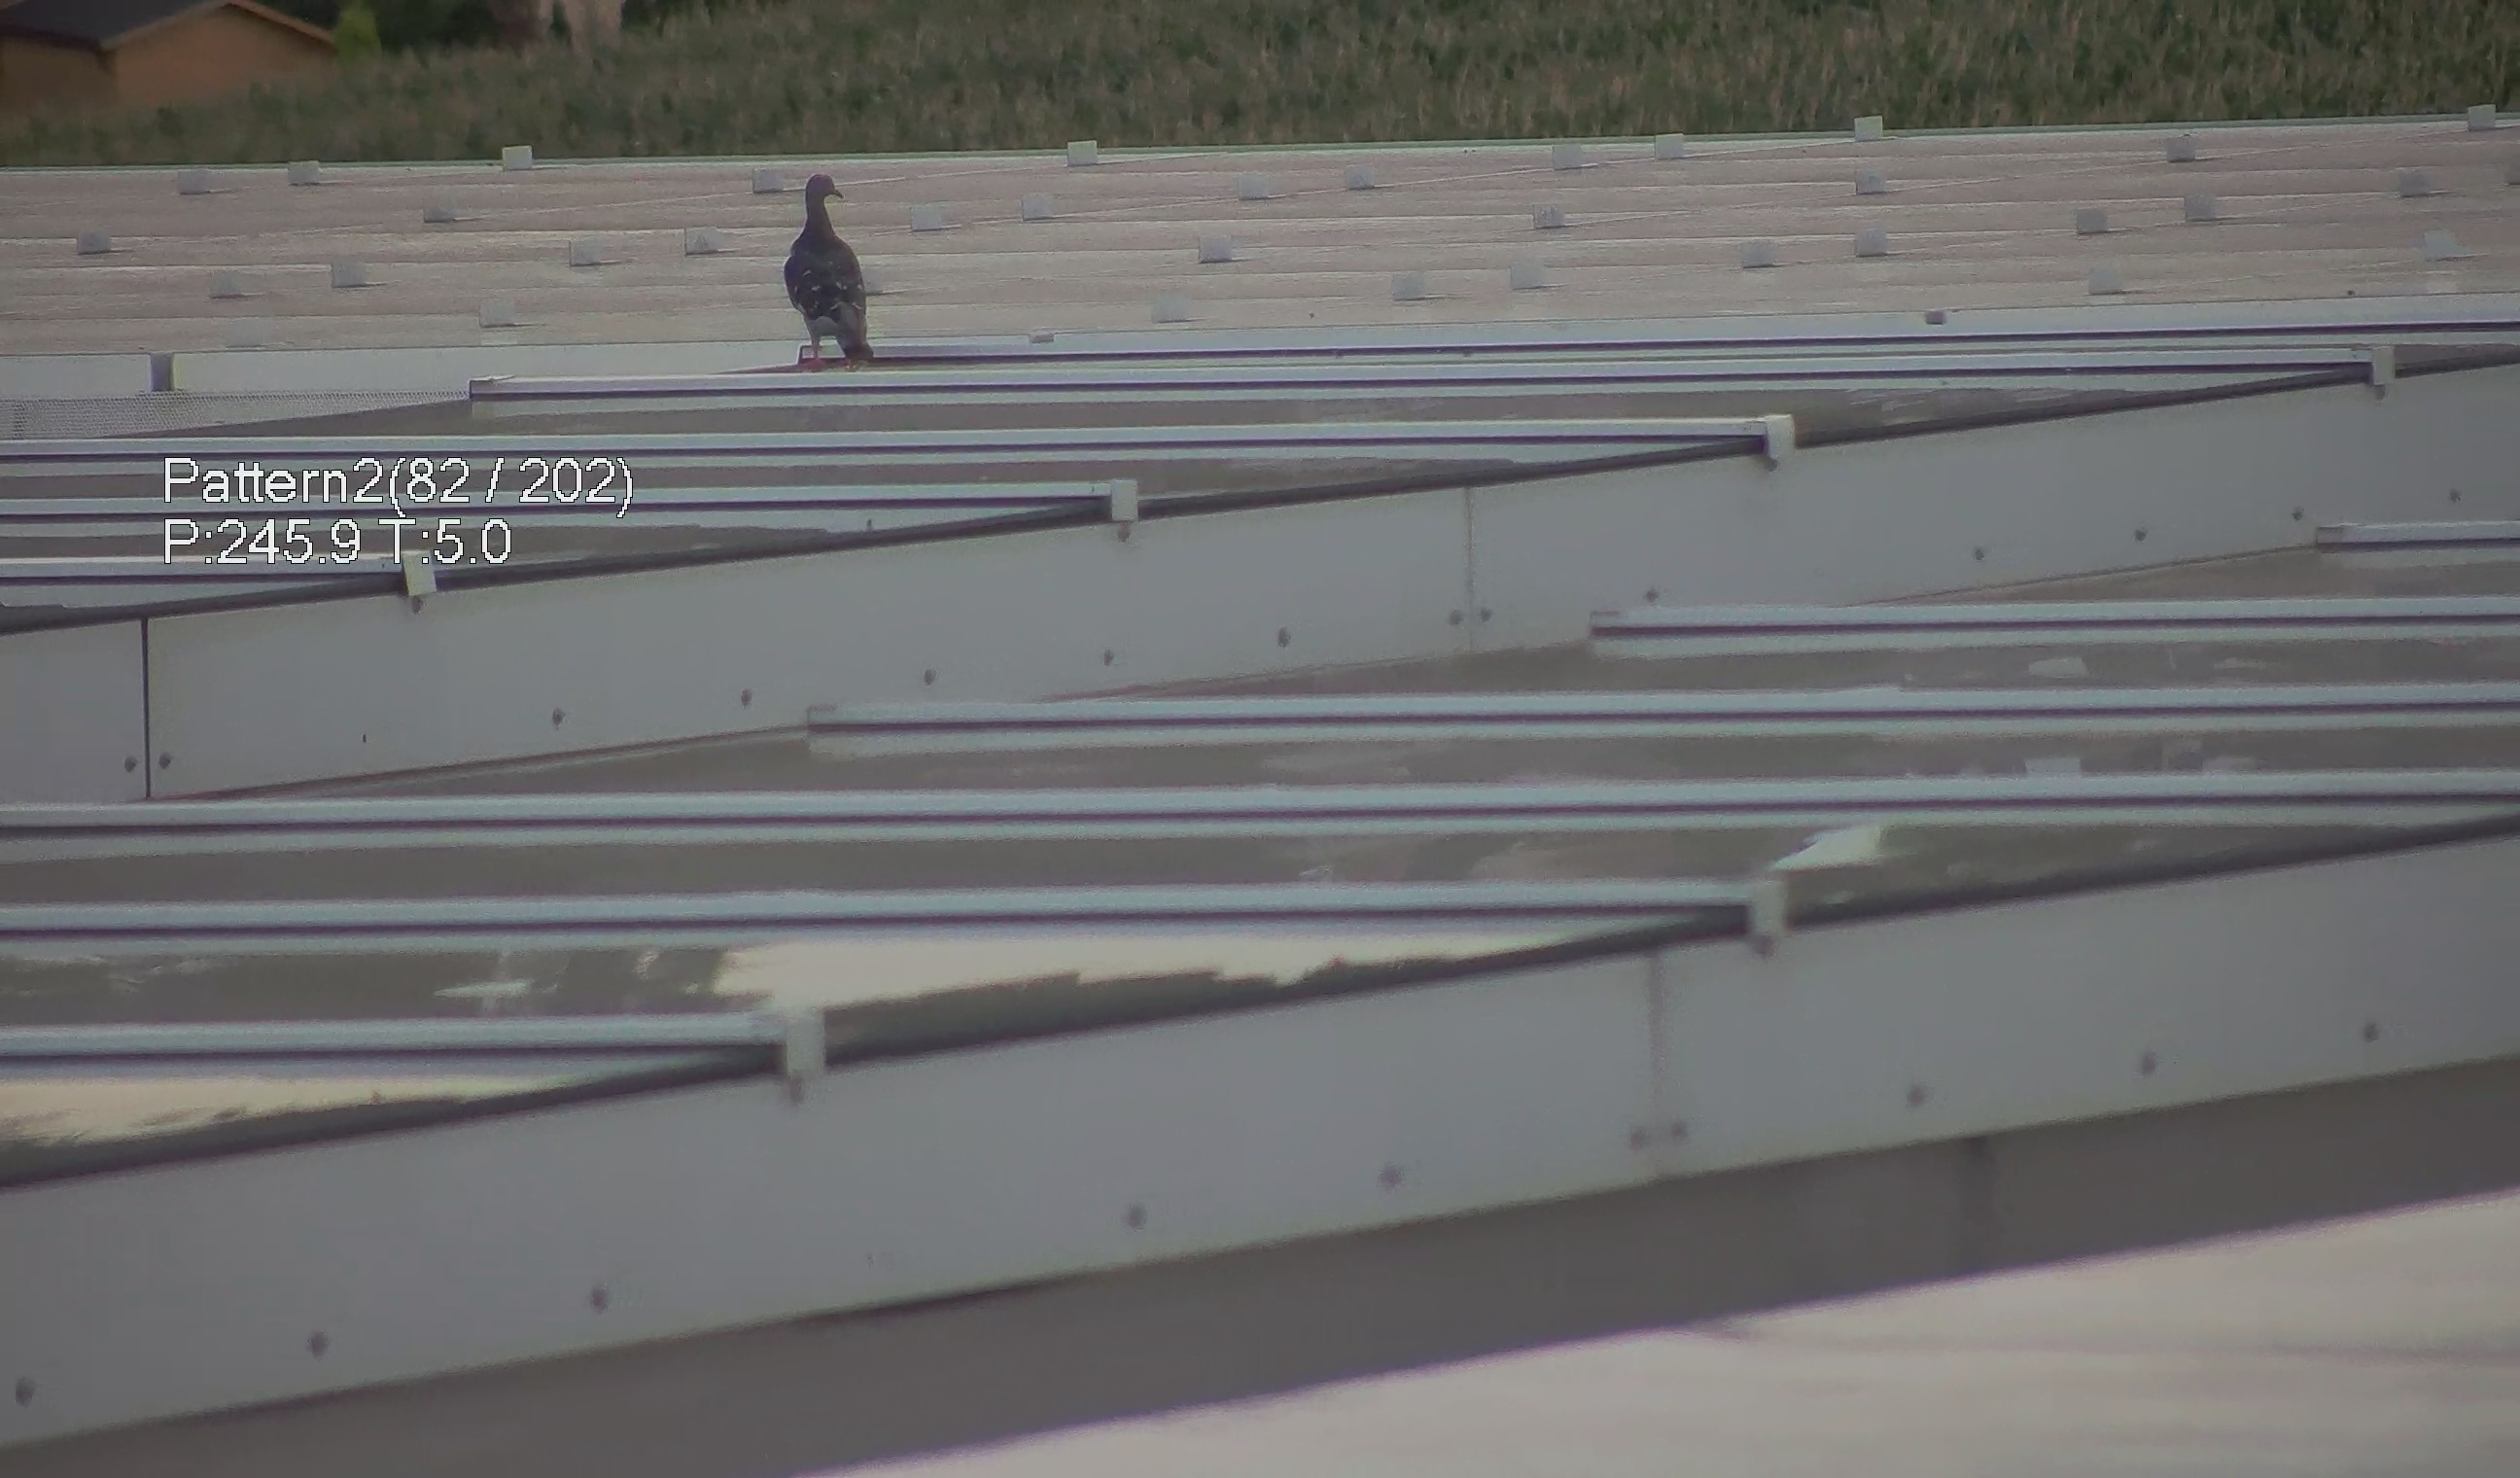Pigeon: (758, 155, 879, 359)
